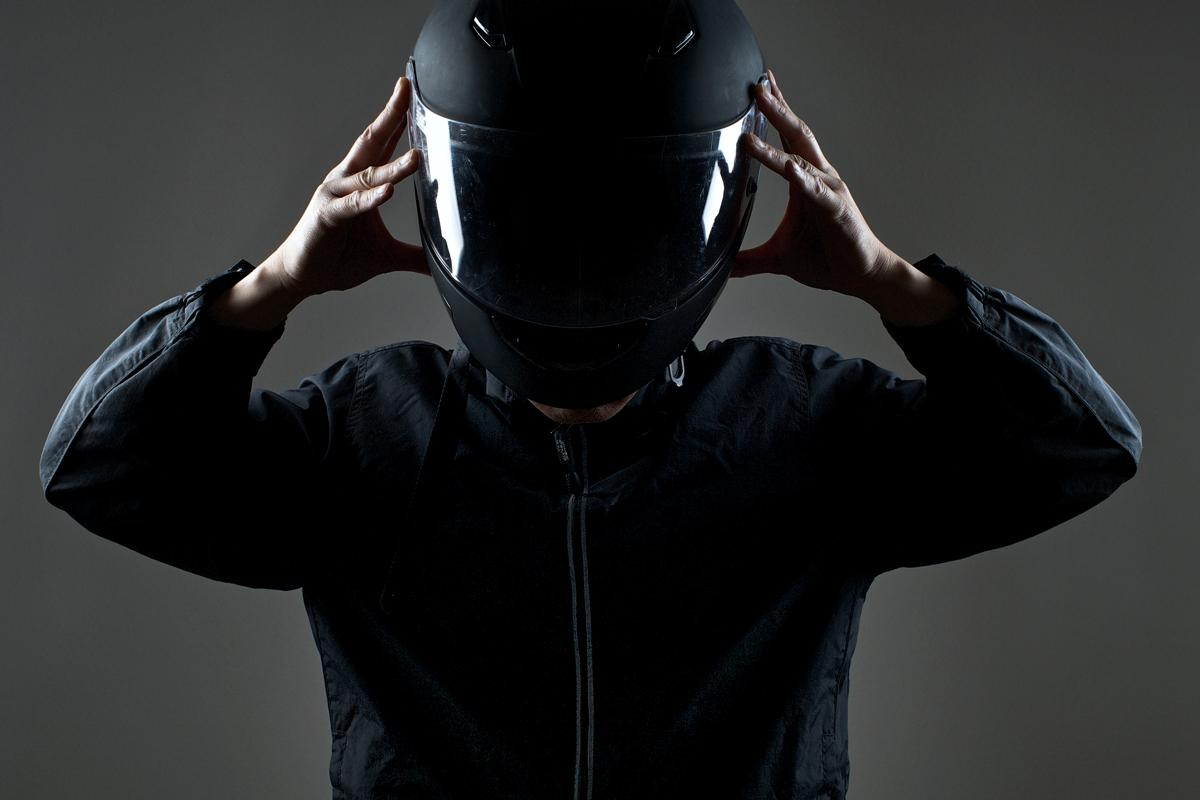Helmet: (407, 0, 764, 407)
